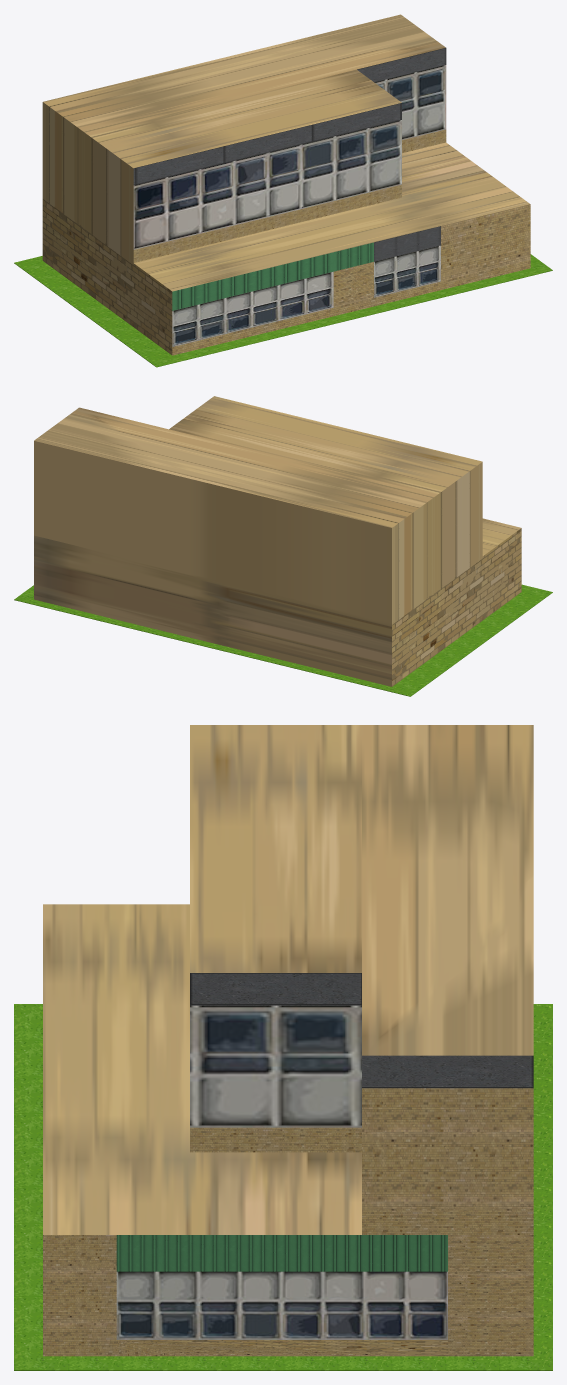
The model's file is buildingAndGrass.gltf.
3 renders of one model, top to bottom at view 1: azimuth 30°, elevation 25°; view 2: azimuth 150°, elevation 25°; view 3: azimuth 270°, elevation 25°, orthographic. The views are drawn at different scales.
Visible parts, largest first — view 1: Building_Left_Low, Grass_Left_1; view 2: Building_Left_Low, Grass_Left_1; view 3: Building_Left_Low, Grass_Left_1.
Part boxes in pixels (<box>): Building_Left_Low: <box>42,14,530,355</box>; Grass_Left_1: <box>14,254,552,367</box>; Building_Left_Low: <box>34,396,521,686</box>; Grass_Left_1: <box>14,584,552,696</box>; Building_Left_Low: <box>43,725,533,1356</box>; Grass_Left_1: <box>14,1004,552,1370</box>.
Size of the model in its own units: 90 by 34.55 by 56.
5 materials, 5 textured.
